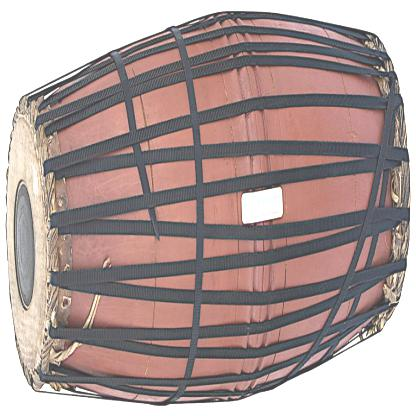Mridangam: (5, 1, 415, 414)
